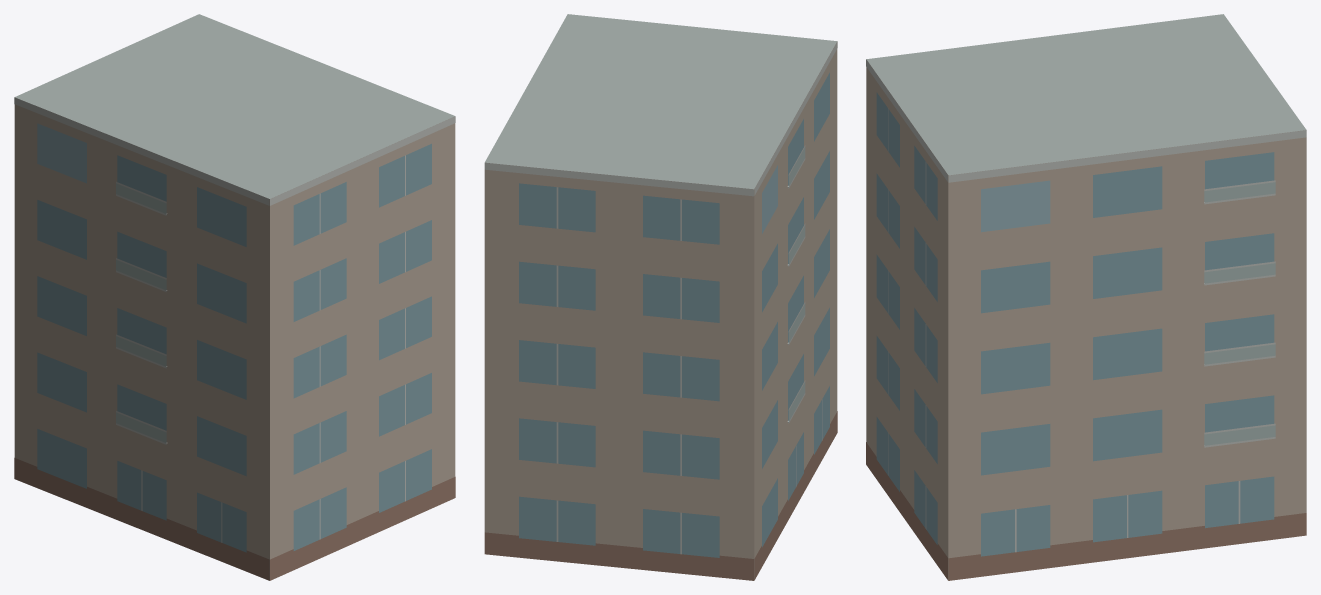
File: survey-upis-32992125.glb
3 renders of one model, left to right at view 1: azimuth 30°, elevation 25°; view 2: azimuth 150°, elevation 25°; view 3: azimuth 270°, elevation 25°, orthographic. The views are drawn at different scales.
Visible parts, largest first — view 1: survey-upis-32992125.tmp; view 2: survey-upis-32992125.tmp; view 3: survey-upis-32992125.tmp.
Part boxes in pixels (<box>): survey-upis-32992125.tmp: <box>14,14,455,580</box>; survey-upis-32992125.tmp: <box>484,14,837,580</box>; survey-upis-32992125.tmp: <box>866,14,1306,580</box>.
Size of the model in its own units: 11.49 by 13.45 by 13.25.
